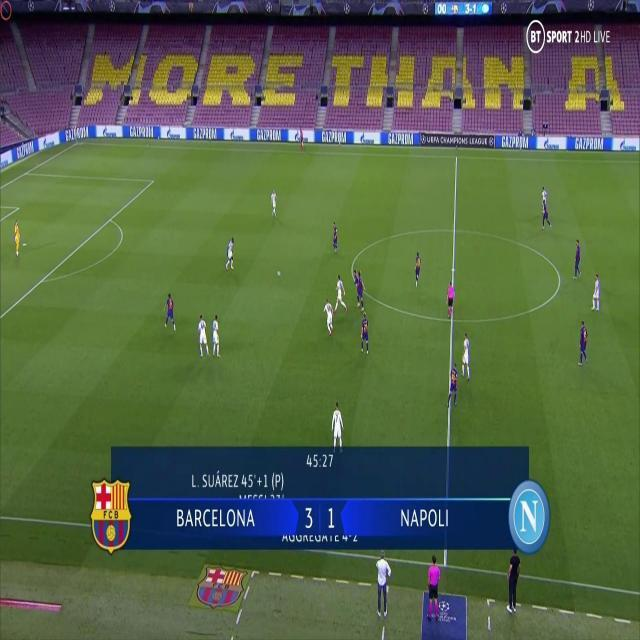ball: (277, 268, 282, 278)
goalkeeper: (423, 548, 448, 629), (13, 215, 22, 260)
player: (332, 399, 345, 457), (196, 315, 211, 358), (333, 275, 348, 316), (163, 291, 177, 333), (577, 321, 589, 367), (447, 362, 459, 408), (571, 238, 583, 282), (461, 331, 471, 382), (590, 273, 602, 315), (321, 298, 334, 336), (211, 314, 221, 359), (361, 311, 370, 356), (413, 249, 423, 289), (225, 236, 236, 272), (357, 270, 366, 311), (542, 198, 553, 229), (352, 268, 360, 307), (331, 220, 338, 255), (271, 187, 278, 218), (541, 188, 548, 217)
referee: (446, 279, 456, 321), (297, 125, 305, 152)
